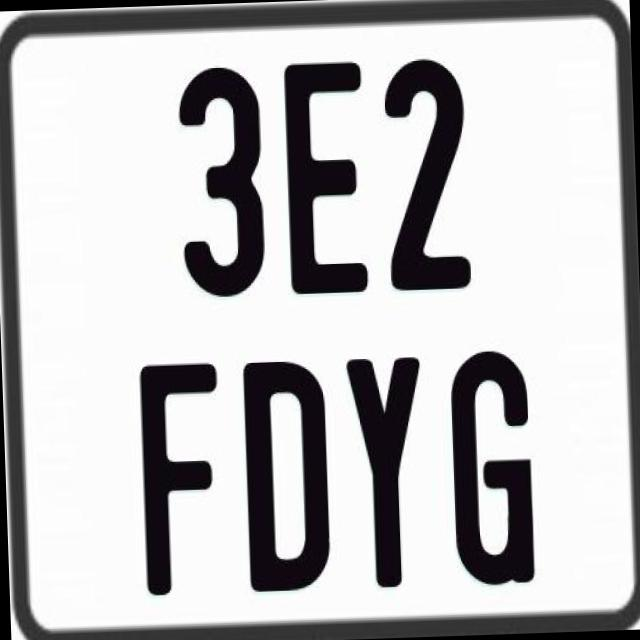2: (379, 52, 475, 294)
3: (175, 64, 270, 298)
D: (242, 355, 336, 591)
E: (281, 62, 368, 302)
F: (136, 362, 222, 594)
G: (446, 344, 538, 582)
Y: (346, 357, 428, 596)
